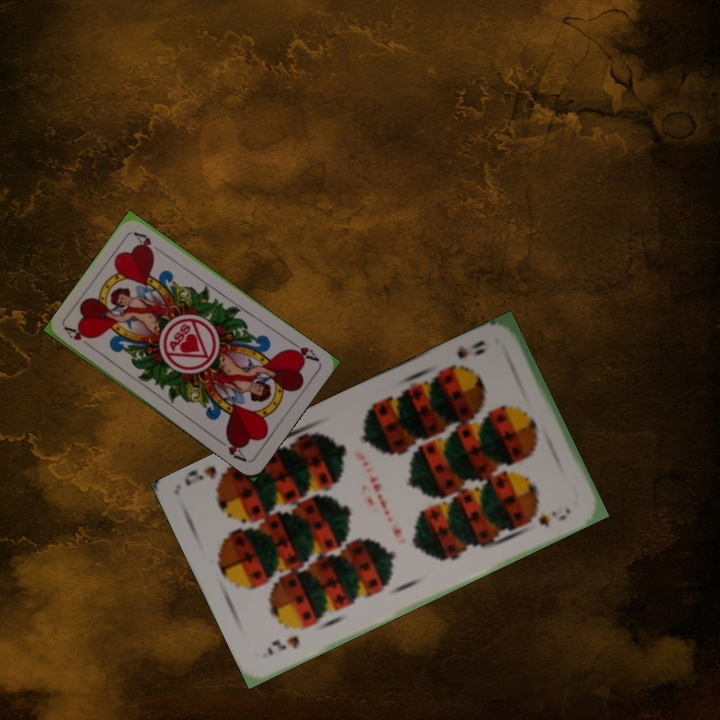HA: (284, 336, 322, 364), (62, 323, 93, 343)
S9: (444, 336, 488, 375), (262, 631, 302, 658)
